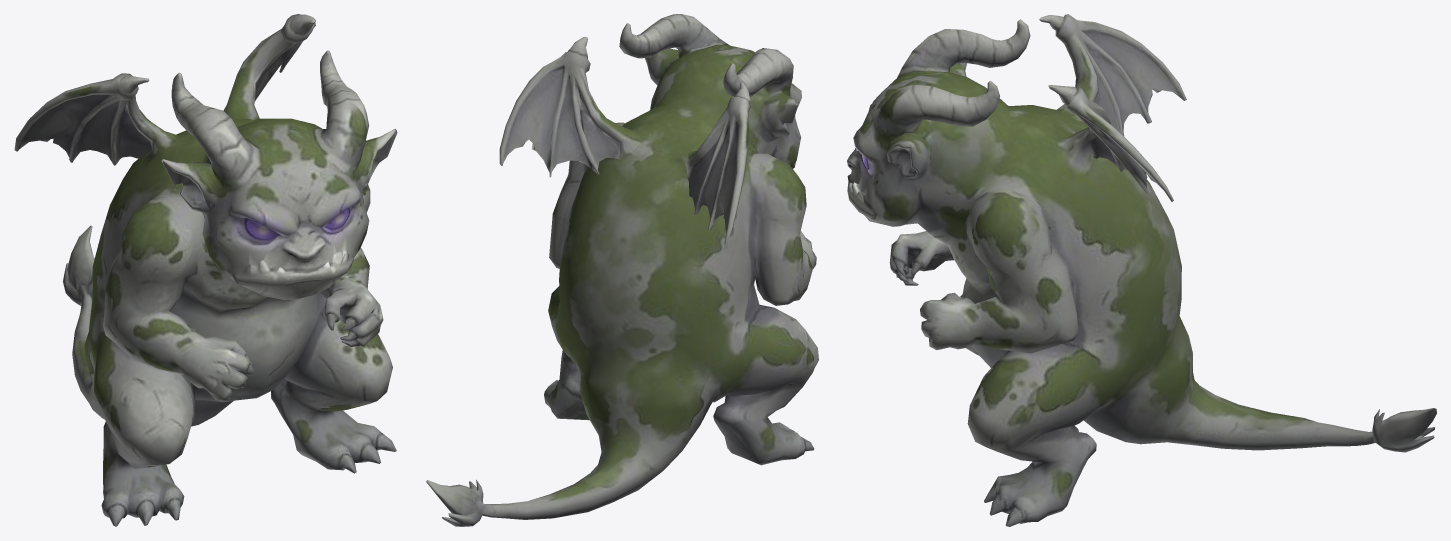
The model's file is gargoyle.glb.
The picture shows the model from 3 angles, left to right: view 1: azimuth 30°, elevation 25°; view 2: azimuth 150°, elevation 25°; view 3: azimuth 270°, elevation 25°; orthographic projection. The views are drawn at different scales.
Size of the model in its own units: 0.522 by 0.7358 by 0.9497.
1 material, 1 textured.
